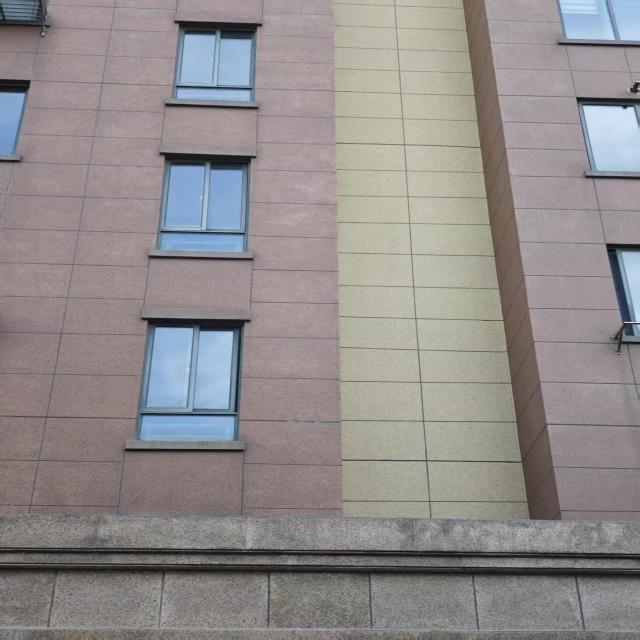efflorescence: (251, 7, 336, 279)
